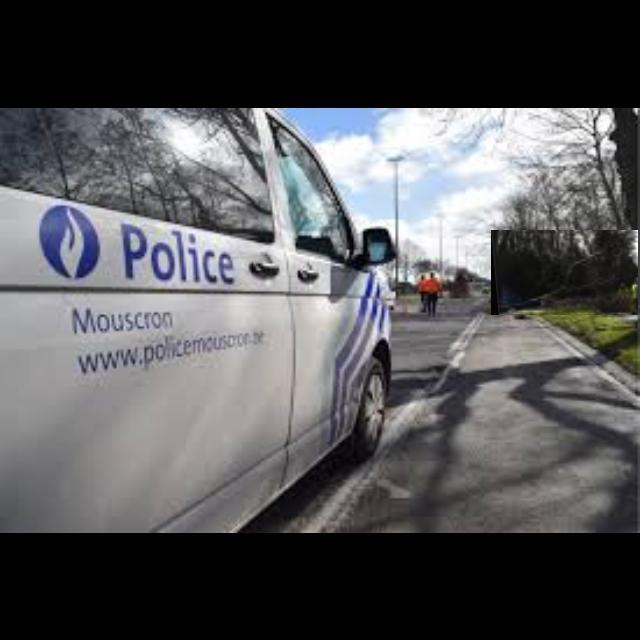fallen_tree: (491, 230, 639, 316)
